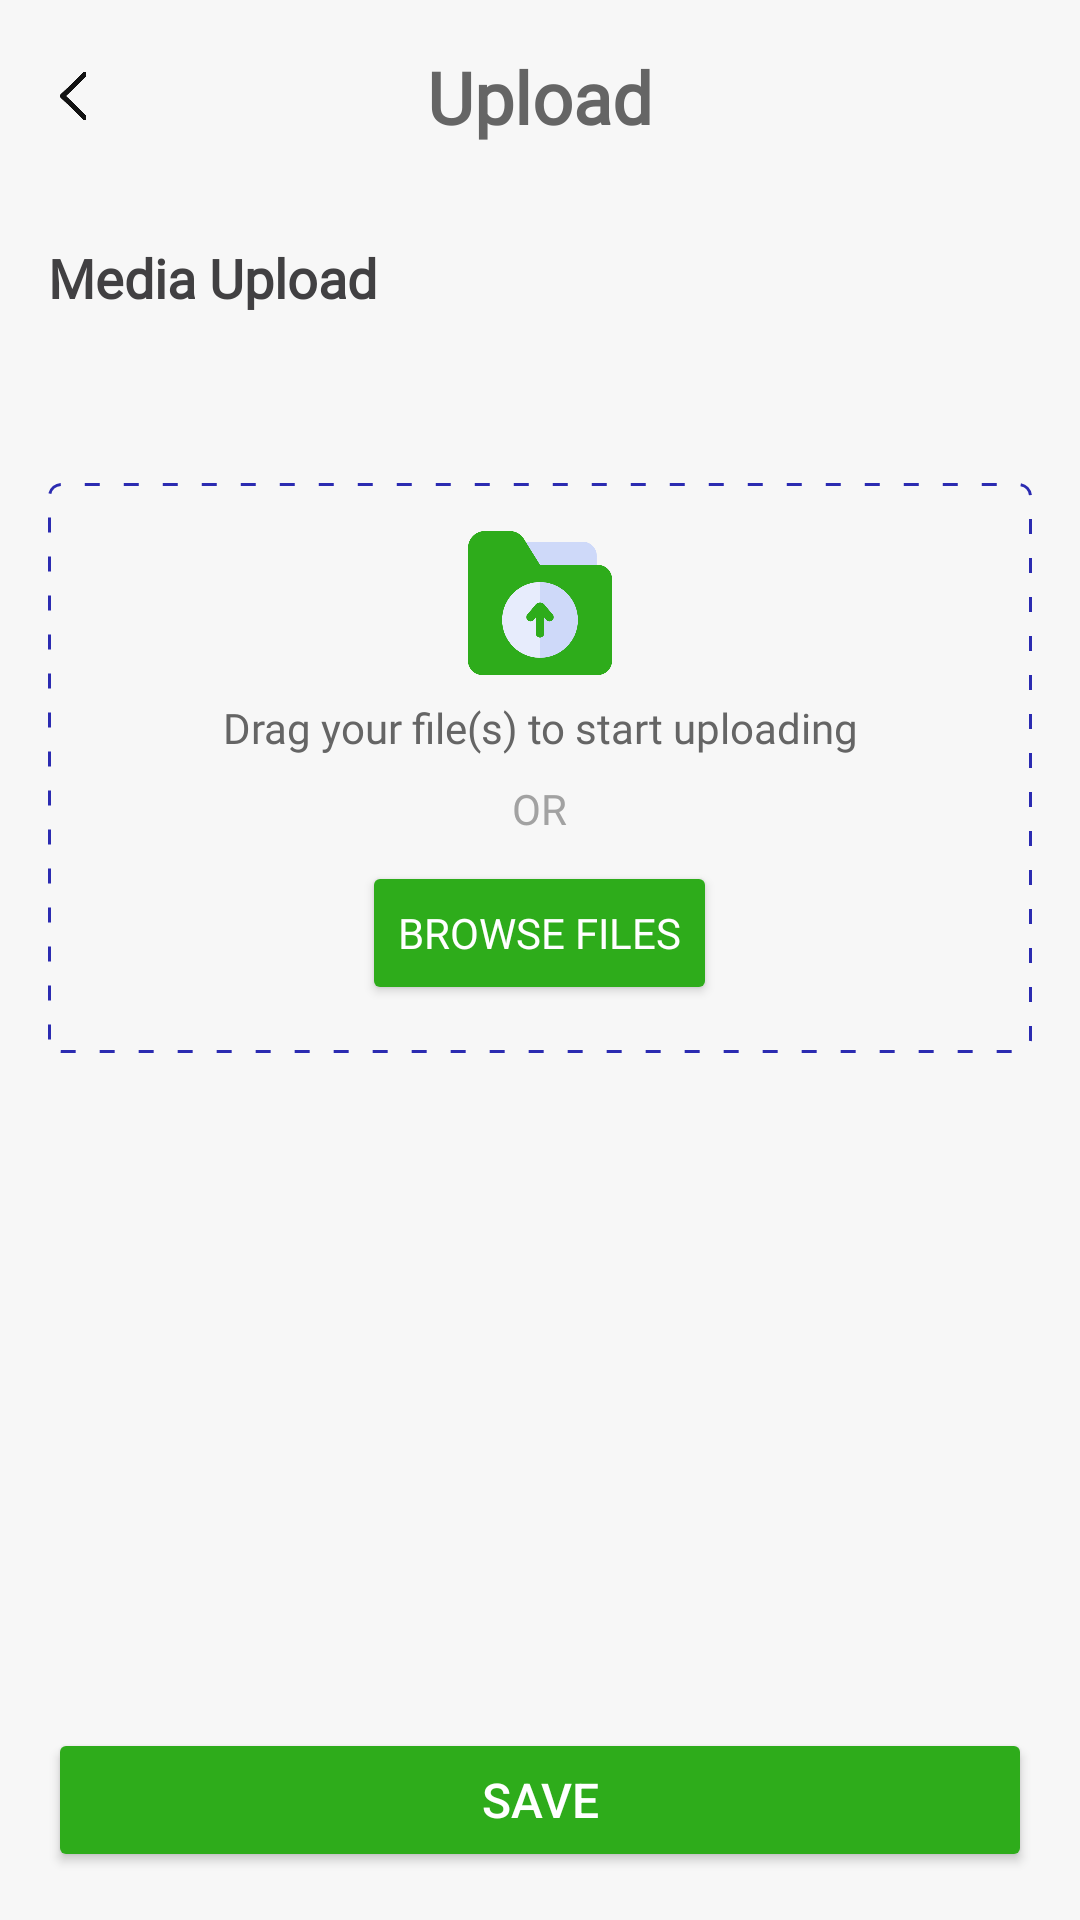

Where to tap for icons on this 1080×1920 app screen, as (x,y):
back: (73,96)
